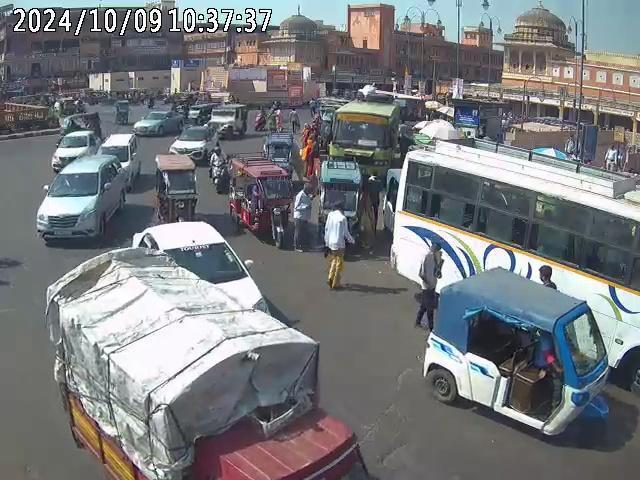auto: (420, 265, 612, 453), (228, 157, 294, 245), (153, 150, 198, 222)
bus: (388, 134, 638, 374), (328, 88, 401, 178)
car: (35, 151, 126, 246), (100, 133, 140, 190), (51, 129, 100, 170), (168, 124, 218, 163), (208, 102, 249, 138), (133, 109, 183, 136)
lorry: (43, 246, 362, 478)
person: (320, 202, 352, 289), (416, 240, 445, 330), (292, 181, 317, 250)
scooty-rider: (207, 148, 232, 194)
